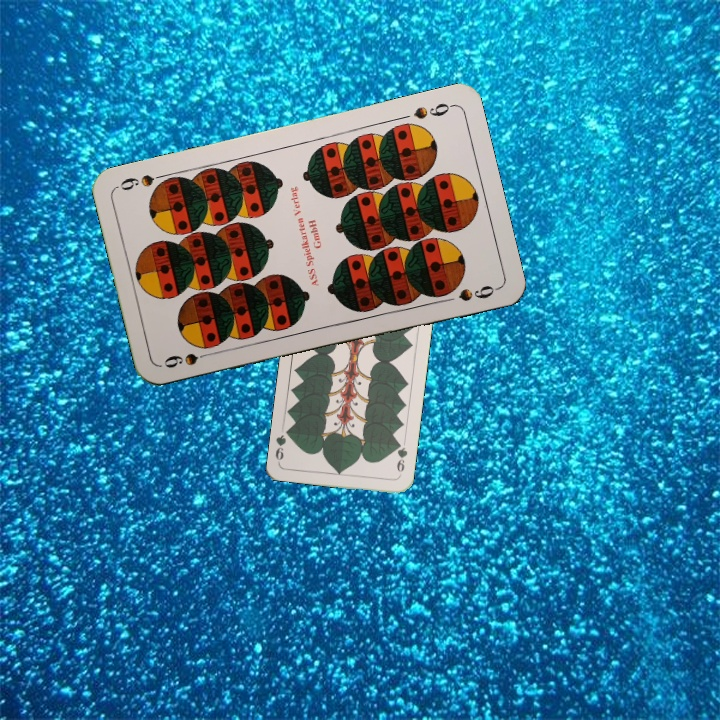G9: (393, 438, 410, 479)
S9: (160, 347, 218, 371), (409, 99, 456, 122)
